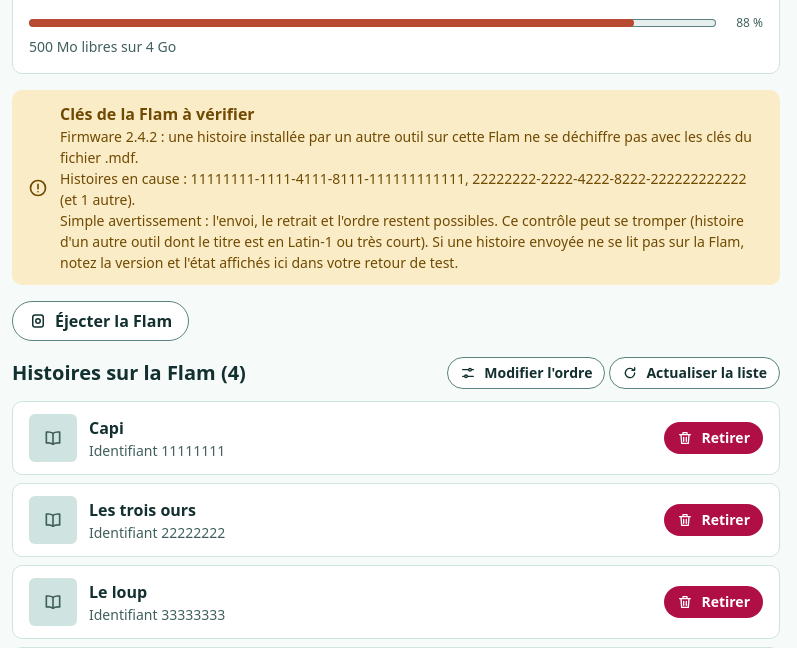
Flam 2.x aux clés incohérentes : les histoires en cause sont désignées (#326)
(page scrolled)
Click the button "Modifier l'ordre".
click(526, 373)  # box [447,357,605,389]
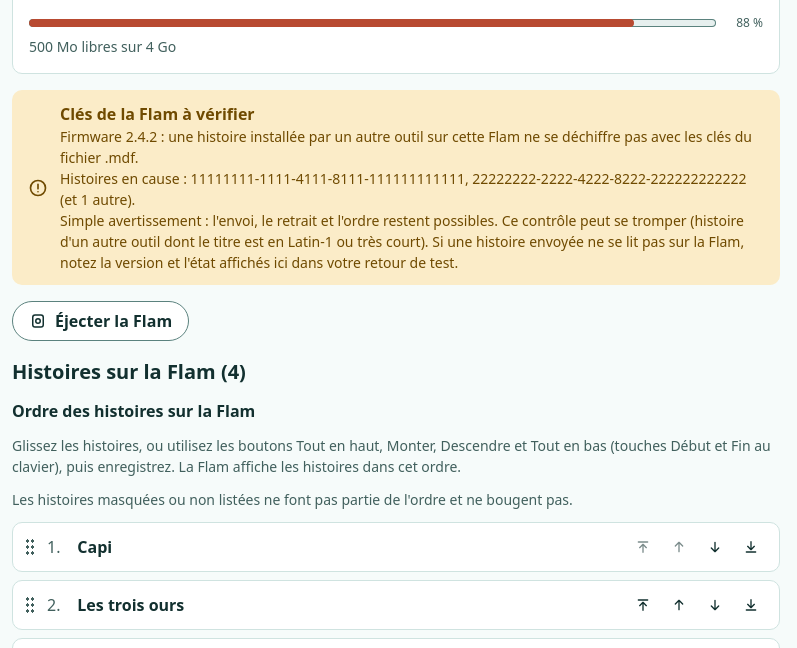
Result: the heading "Ordre des histoires sur la Flam" is shown at [12,400,255,422]
Result: the button named "Descendre « Capi »" is enabled at [699,531,731,563]
